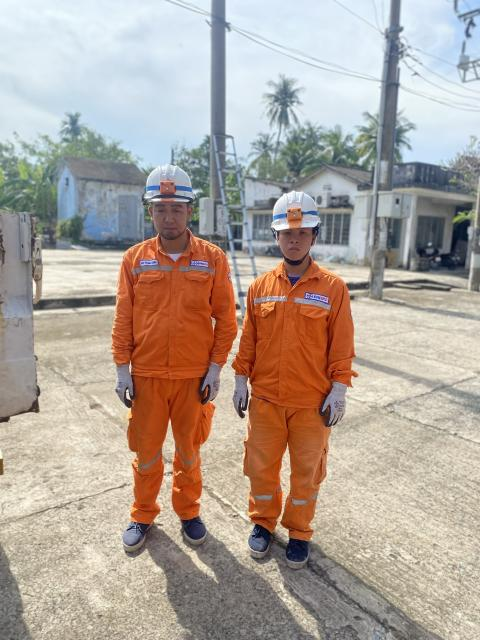gloves: (316, 379, 356, 432), (106, 358, 142, 412), (226, 375, 260, 416), (201, 351, 224, 410)
helmet: (143, 159, 198, 212), (266, 189, 322, 235)
shoes: (116, 502, 158, 555), (176, 496, 212, 551), (281, 523, 315, 573), (244, 519, 278, 558)
